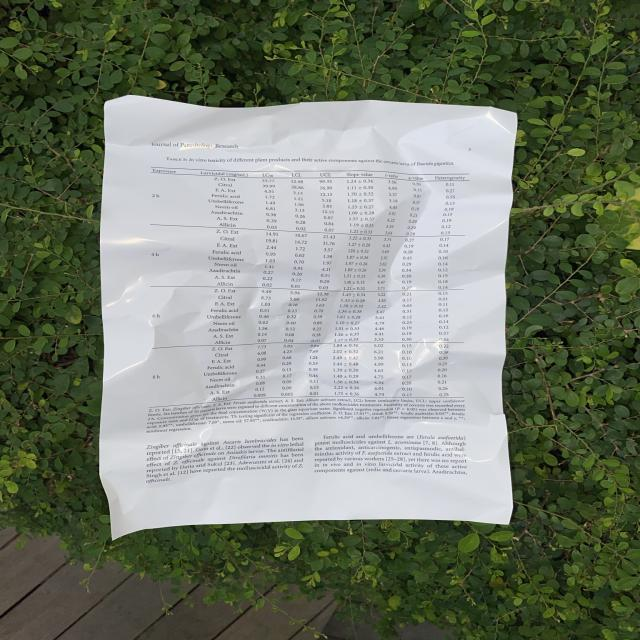document: (100, 96, 517, 538)
